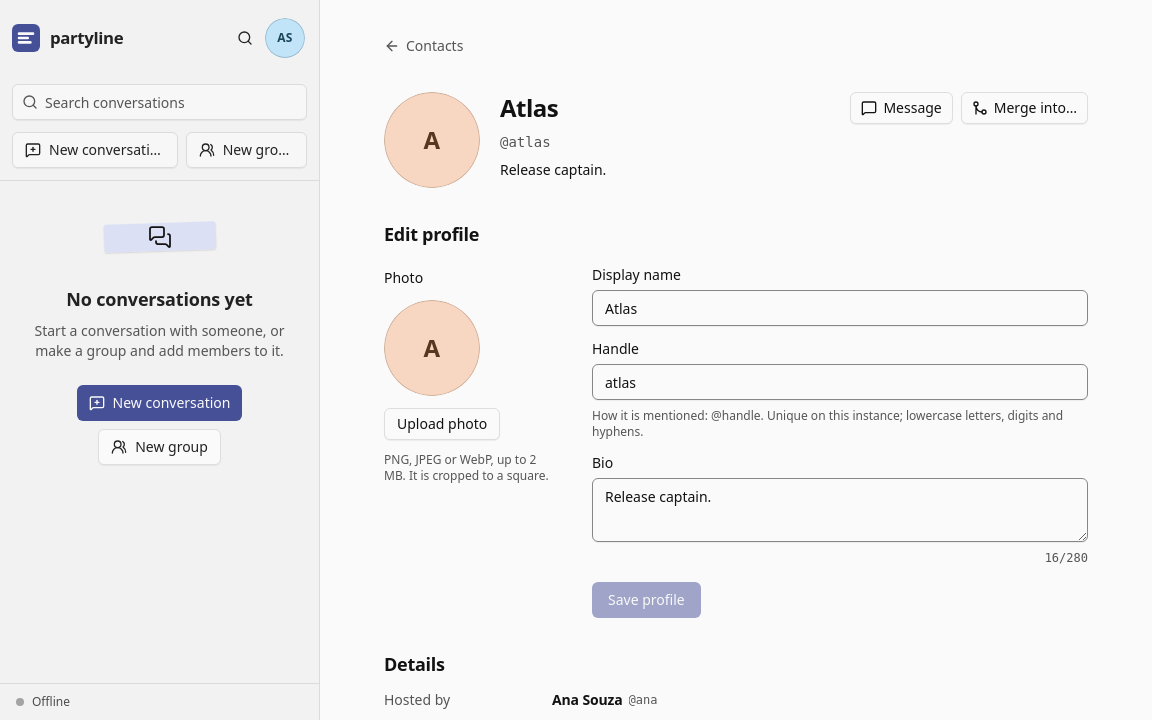
it: editing a profile (PROF-03, PROF-05) › lets the owner rename an AI: only what changed is sent, and the page shows it at once
Step 1. Replace the text in the field labelled "Display name" with "  Atlas Prime " → (840, 308), box [592, 290, 1088, 326]
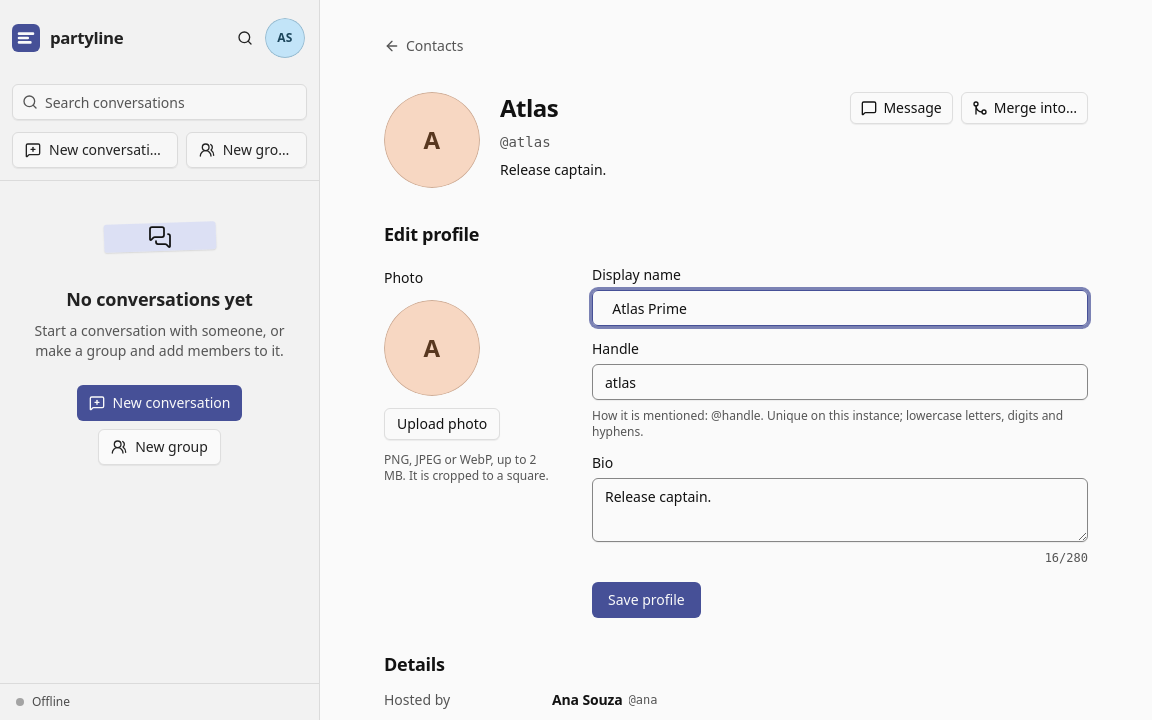
Step 2. Replace the text in the field labelled "Handle" with "@Atlas-Prime" → (840, 382), box [592, 364, 1088, 400]
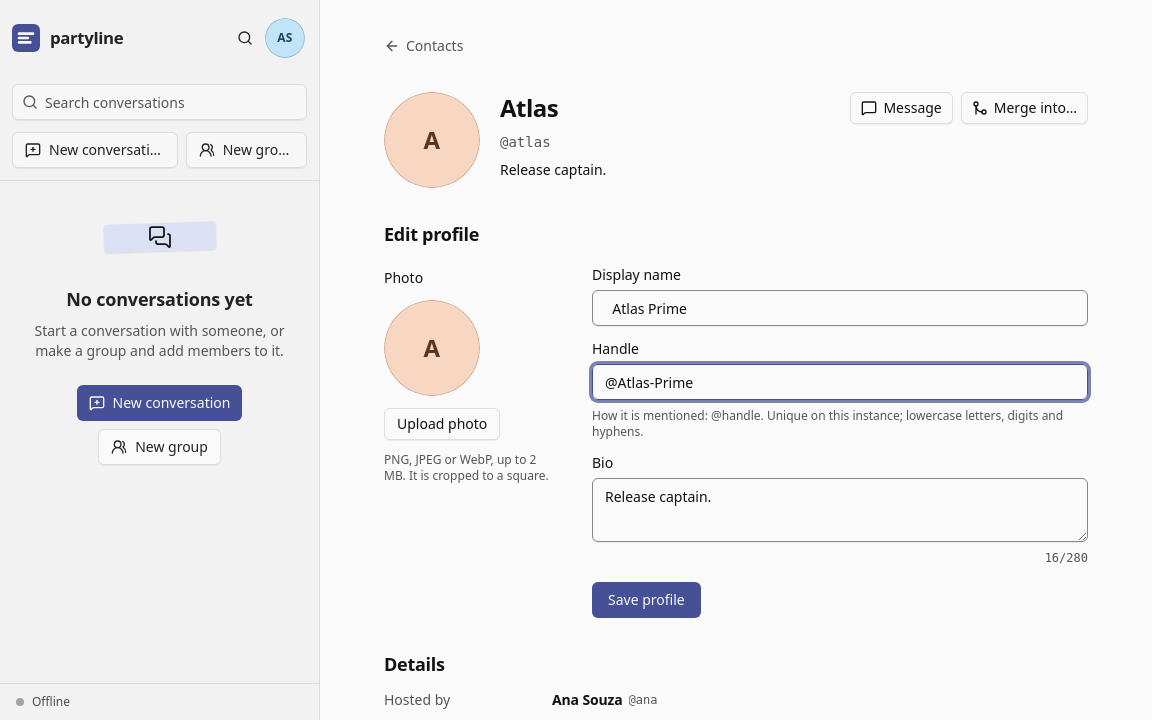
Step 3. Replace the text in the text box labelled "Bio" with "New bio." → (840, 510), box [592, 478, 1088, 542]
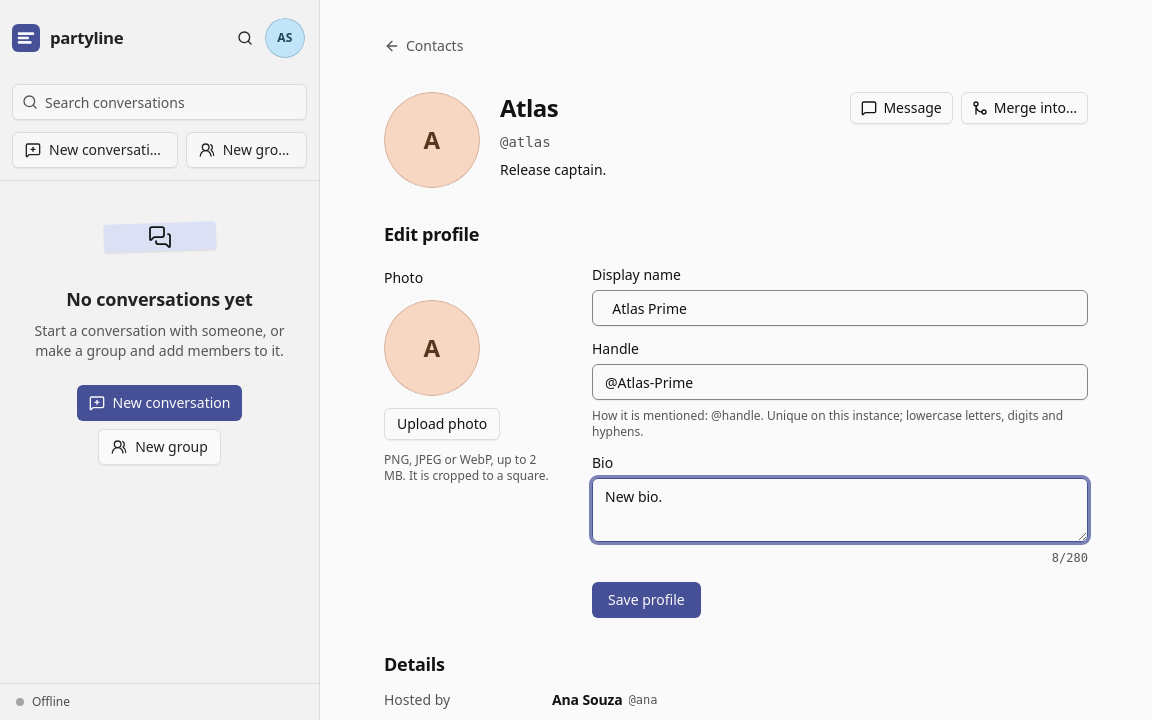
Step 4. Click the button "Save profile" → (646, 600), box [592, 582, 701, 618]
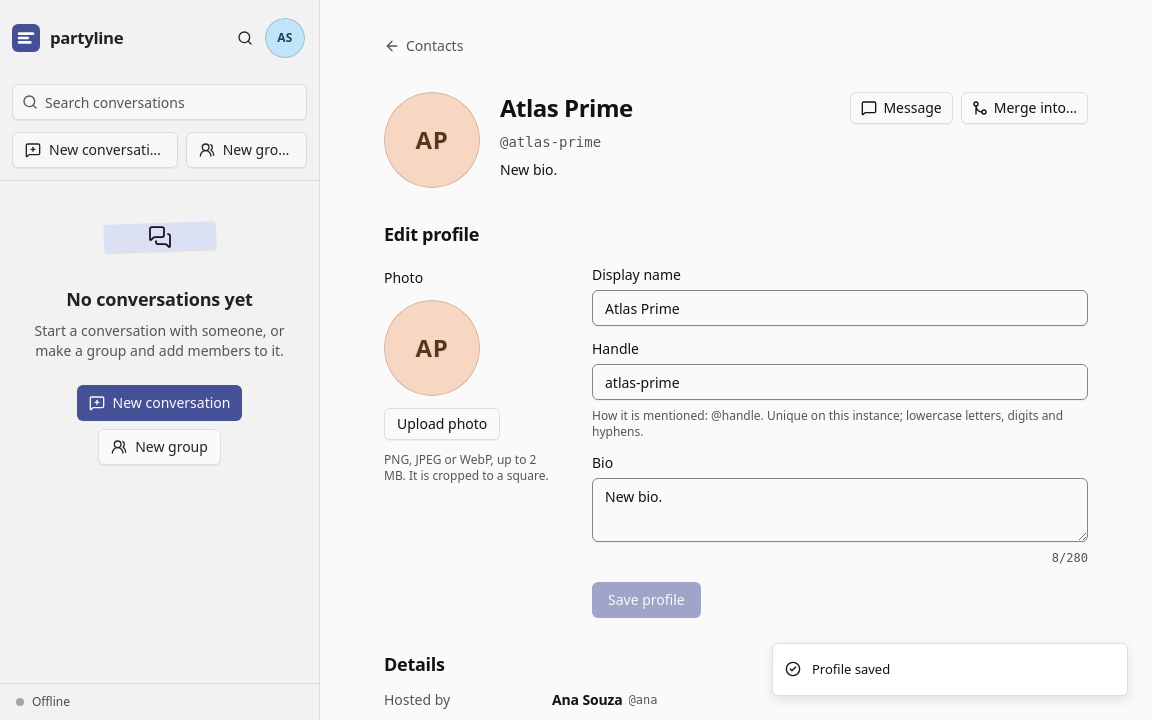
Check: the heading "Atlas Prime" is shown, box [500, 91, 633, 124]
Check: the text "Profile saved" is shown, box [812, 660, 890, 679]
Check: the button "Save profile" is disabled, box [592, 582, 701, 618]
